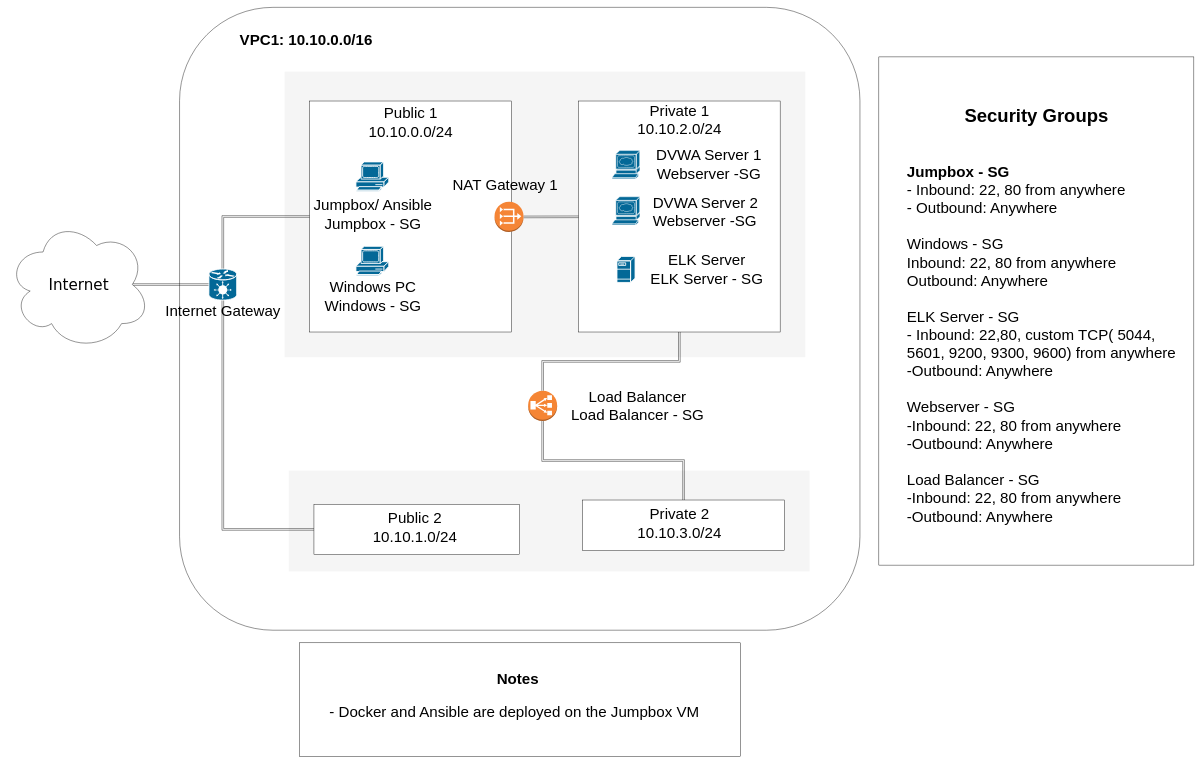
Image size: 1201x764. Some labels were removed from this diagram. The shapes that lost their labels are listed below. From the top down, each one's box as (x1, y1, x2, y2) in pixels, then its label:
(284, 71, 805, 357): Availability Zone 1
(289, 470, 809, 571): Availability Zone 2
